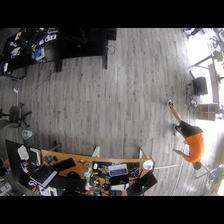fall: (168, 99, 204, 170)
